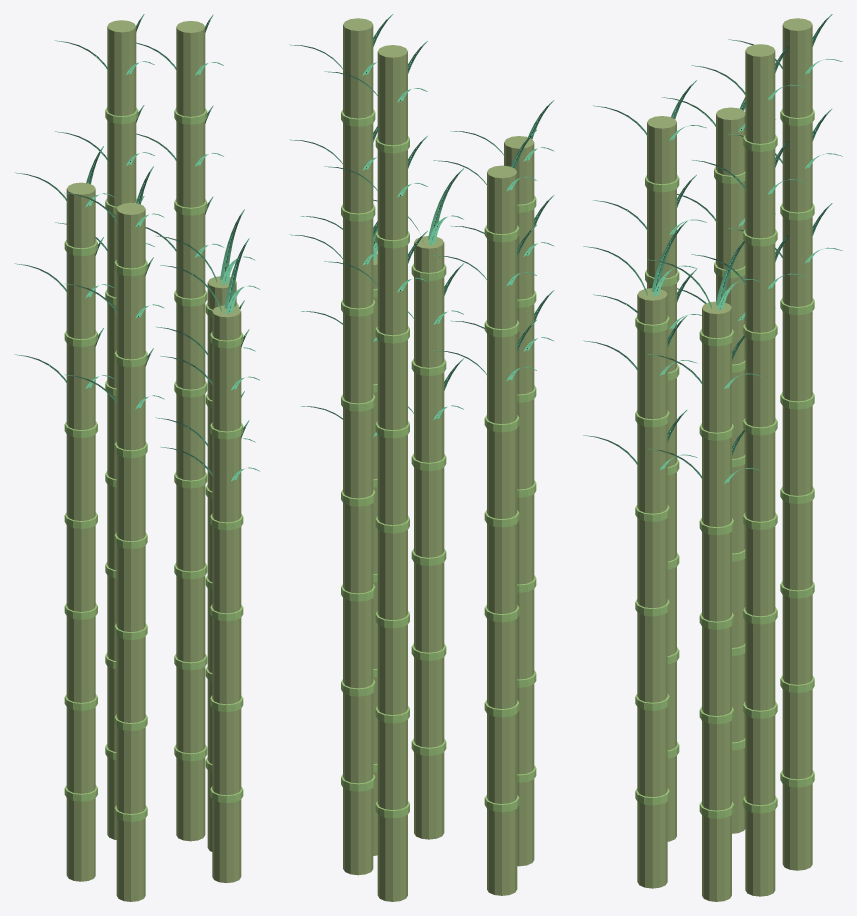
Rendered from thick_bamboo_stand_tropical_island_and_palm_trees_6828.glb.
3 renders of one model, left to right at view 1: azimuth 30°, elevation 25°; view 2: azimuth 150°, elevation 25°; view 3: azimuth 270°, elevation 25°, orthographic. The views are drawn at different scales.
Visible parts, largest first — view 1: thick-bamboo; view 2: thick-bamboo; view 3: thick-bamboo.
Boxes of the visible parts, x1=… form: thick-bamboo: x1=14, y1=14, x2=259, y2=901; thick-bamboo: x1=289, y1=14, x2=554, y2=901; thick-bamboo: x1=583, y1=14, x2=842, y2=901.
Size of the model in its own units: 1.19 by 4 by 1.12.
